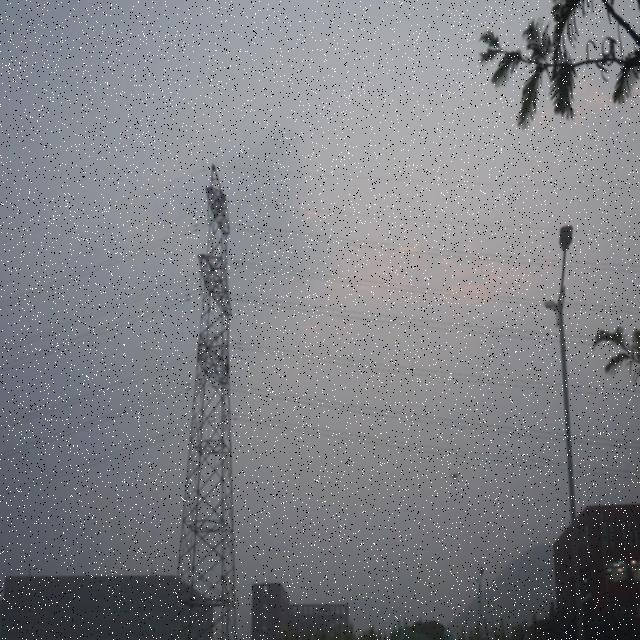UAV: (450, 472, 460, 482)
